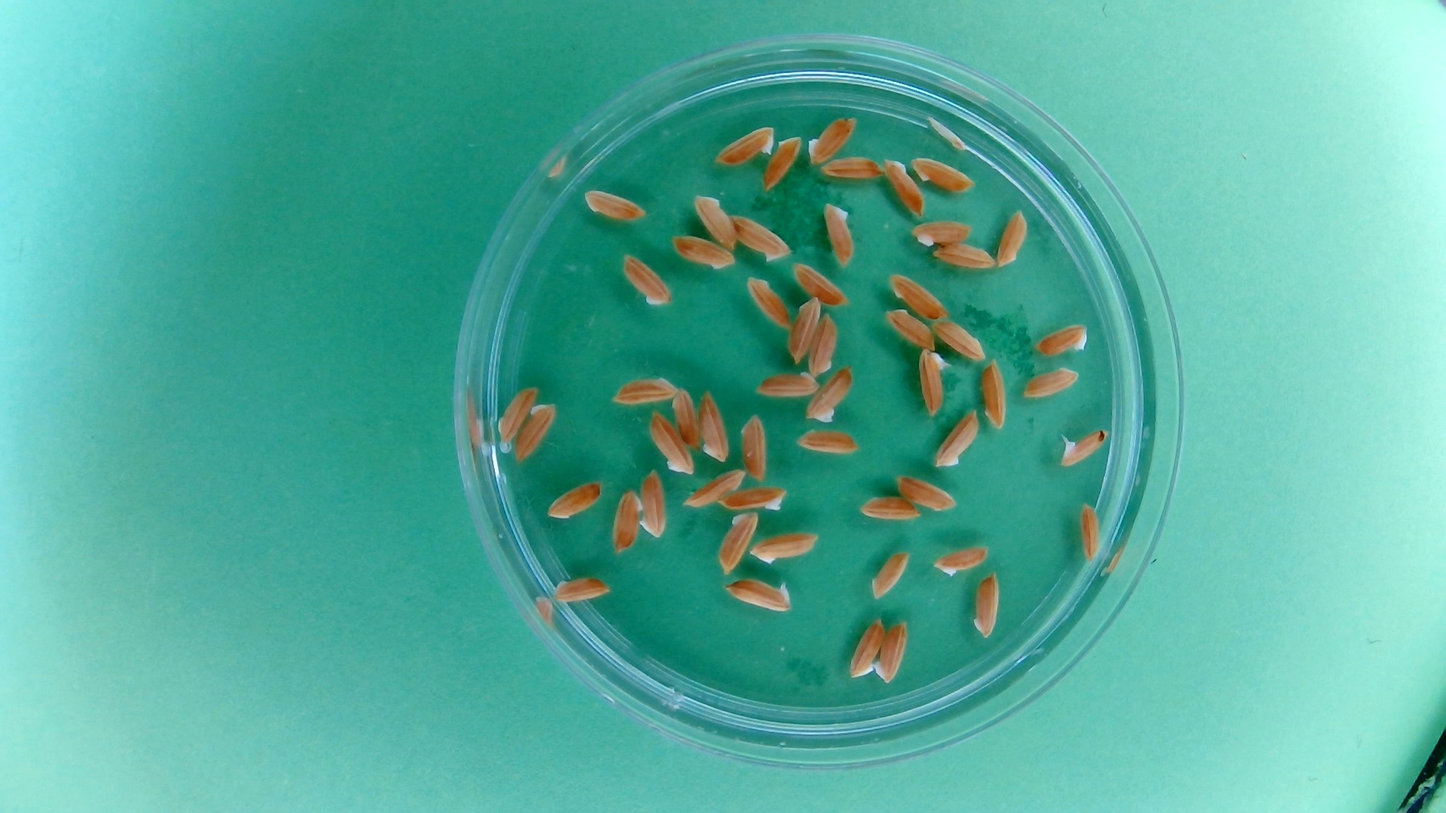no: (886, 269, 953, 322), (730, 211, 794, 264), (618, 250, 674, 309), (804, 362, 856, 425), (931, 406, 982, 470), (646, 409, 694, 476), (512, 398, 559, 464), (790, 259, 853, 308), (715, 509, 760, 577), (711, 123, 777, 169), (881, 154, 926, 221), (804, 112, 859, 166), (494, 382, 538, 449), (908, 153, 978, 195), (682, 467, 747, 512), (667, 232, 738, 273), (893, 470, 959, 514), (742, 273, 792, 331), (691, 190, 738, 251), (929, 315, 987, 363), (820, 199, 859, 269), (880, 306, 935, 354), (697, 387, 732, 462), (762, 132, 804, 194), (545, 479, 605, 522), (609, 373, 682, 408), (847, 614, 886, 679), (724, 576, 794, 612), (786, 294, 822, 364), (608, 486, 644, 556), (749, 530, 821, 565), (580, 187, 648, 224), (874, 619, 910, 685), (993, 206, 1030, 270), (979, 357, 1011, 431), (637, 467, 669, 540), (1020, 364, 1081, 402), (752, 366, 820, 400), (969, 569, 1002, 639), (868, 548, 911, 601), (806, 310, 840, 377), (792, 426, 863, 458), (931, 240, 999, 273), (1031, 321, 1090, 359), (739, 411, 770, 483), (718, 483, 789, 514), (670, 385, 702, 453), (853, 494, 923, 525), (908, 217, 977, 248), (932, 544, 991, 579), (817, 154, 887, 183), (551, 574, 614, 606), (1076, 500, 1104, 565), (920, 351, 948, 413)
yes: (1057, 428, 1109, 469)
